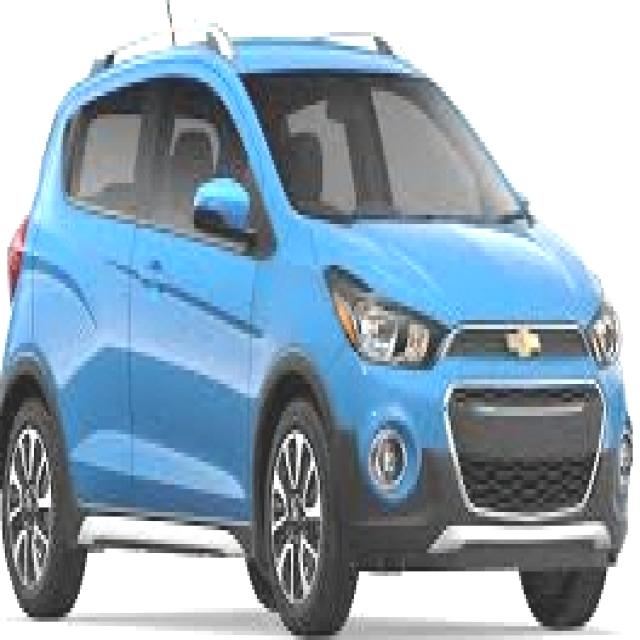blue: (0, 0, 616, 640), (622, 0, 625, 12)
